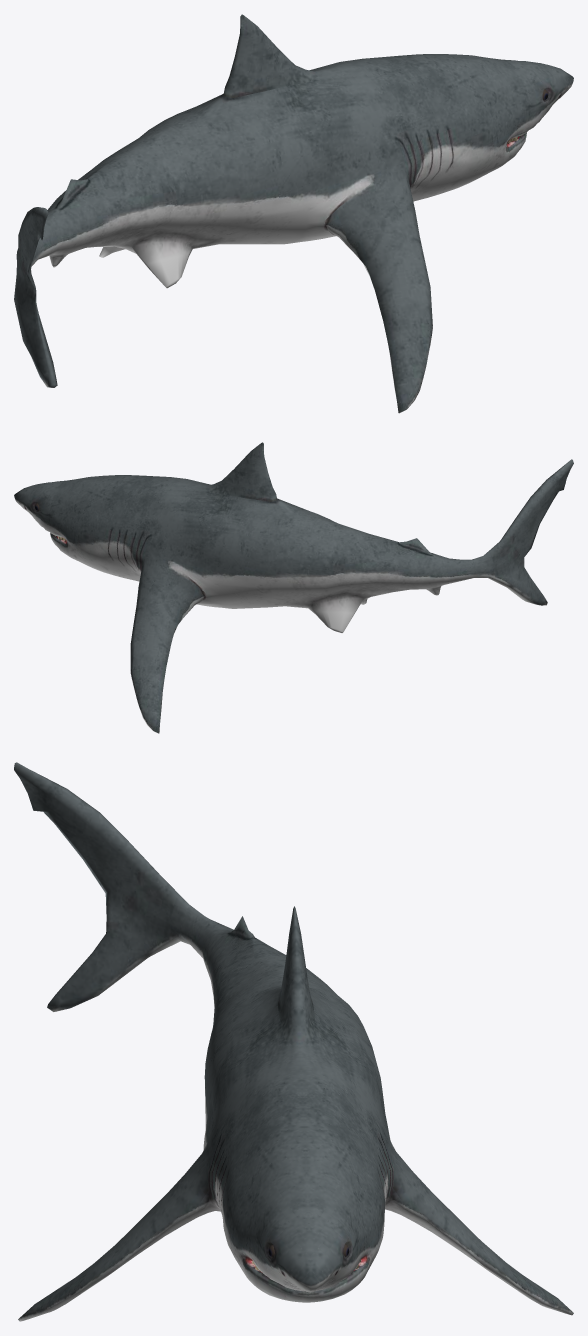
The model's file is shark.glb.
The picture shows the model from 3 angles, top to bottom: view 1: azimuth 30°, elevation 25°; view 2: azimuth 150°, elevation 25°; view 3: azimuth 270°, elevation 25°; orthographic projection. The views are drawn at different scales.
Visible parts, largest first — view 1: baked_Object_21; view 2: baked_Object_21; view 3: baked_Object_21.
Part boxes in pixels (box(x1,y1,x2,y2)): baked_Object_21: box(14, 14, 573, 413); baked_Object_21: box(14, 442, 573, 733); baked_Object_21: box(14, 762, 573, 1321).
Size of the model in its own units: 1 by 0.4788 by 0.6206.
Materials: 1 (1 with a texture image).
